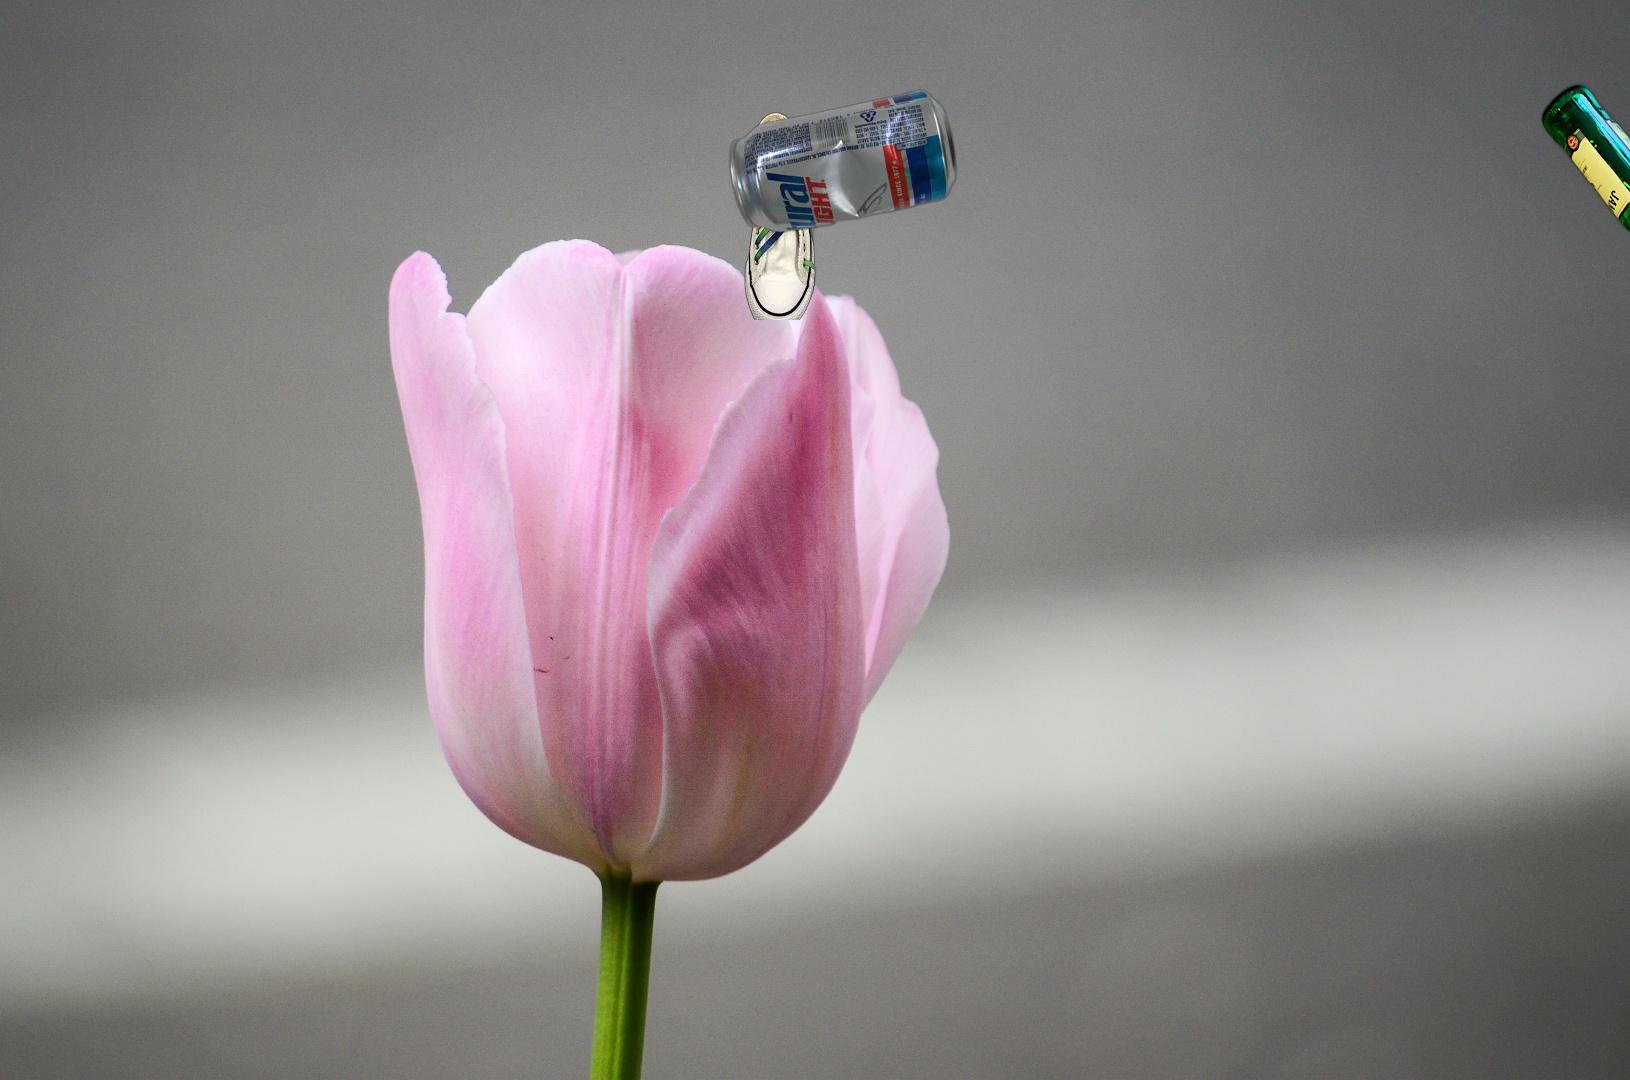glass: (1537, 78, 1630, 305)
metal-cans: (725, 88, 961, 236)
shoes: (742, 110, 825, 319)
trash: (1441, 1029, 1630, 1080)
